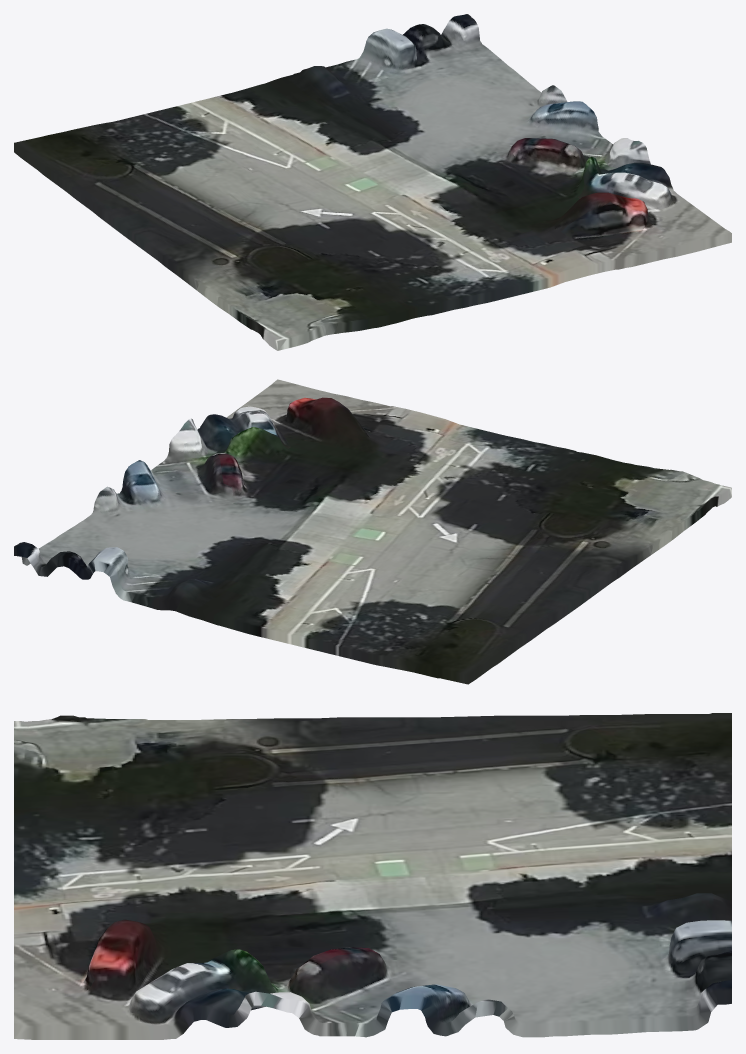
The model's file is z20-167783-405216-h0-yup-uvflip-v3-world.glb.
3 renders of one model, top to bottom at view 1: azimuth 30°, elevation 25°; view 2: azimuth 150°, elevation 25°; view 3: azimuth 270°, elevation 25°, orthographic. The views are drawn at different scales.
Size of the model in its own units: 30.16 by 2.76 by 30.32.
Materials: 1 (1 with a texture image).
